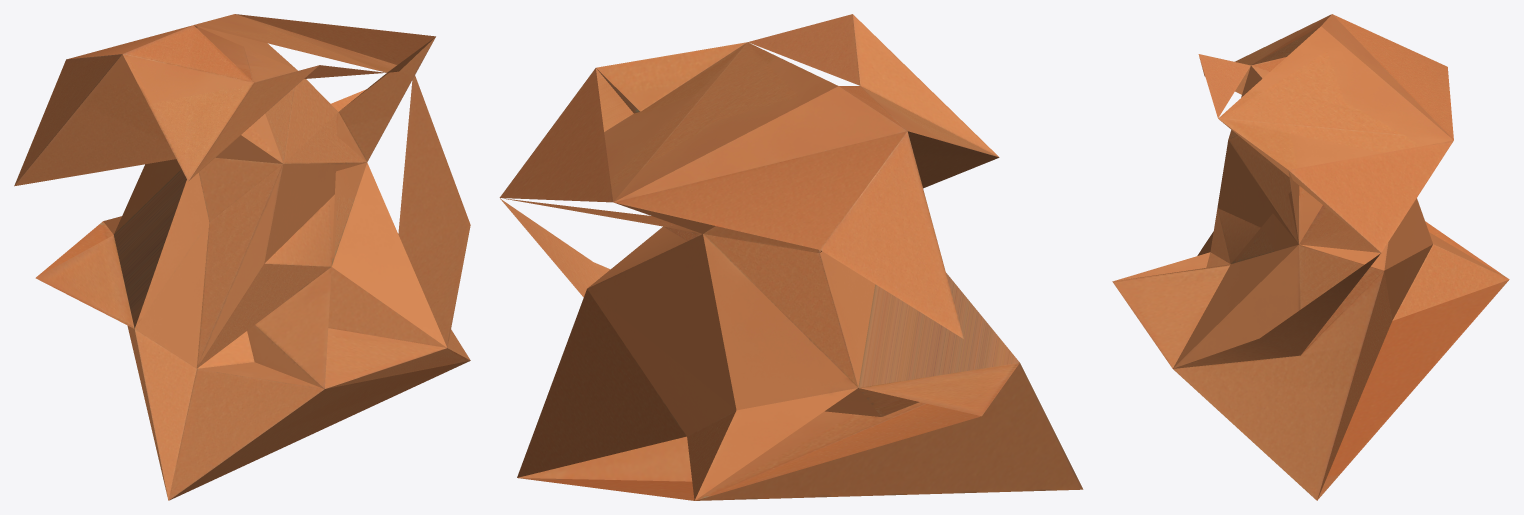
Rendered from herb_pot.glb.
3 renders of one model, left to right at view 1: azimuth 30°, elevation 25°; view 2: azimuth 150°, elevation 25°; view 3: azimuth 270°, elevation 25°, orthographic. The views are drawn at different scales.
Bounding box in the file's own units: 1.48 × 1.36 × 1.38.
Materials: 1 (1 with a texture image).
